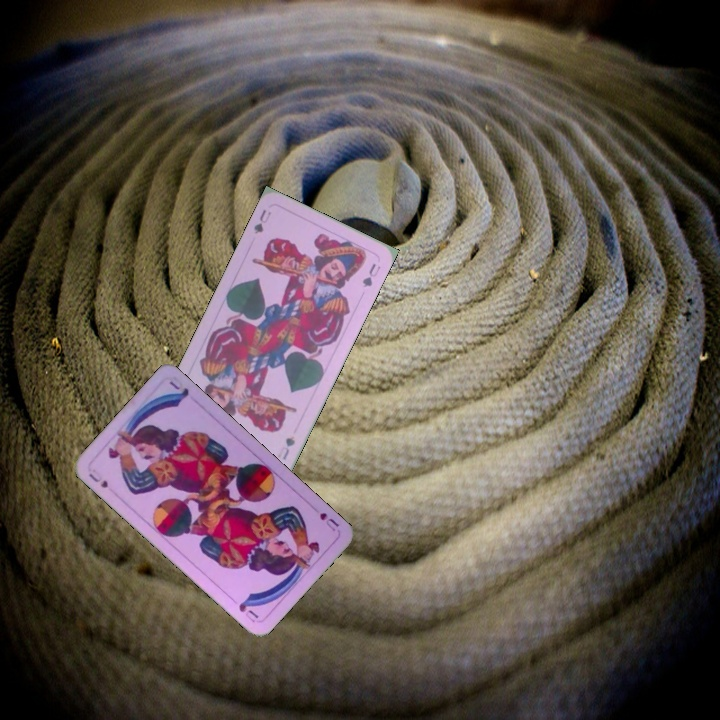GU: (249, 205, 274, 237), (273, 432, 298, 462)
SU: (85, 465, 111, 493), (315, 508, 342, 534)
